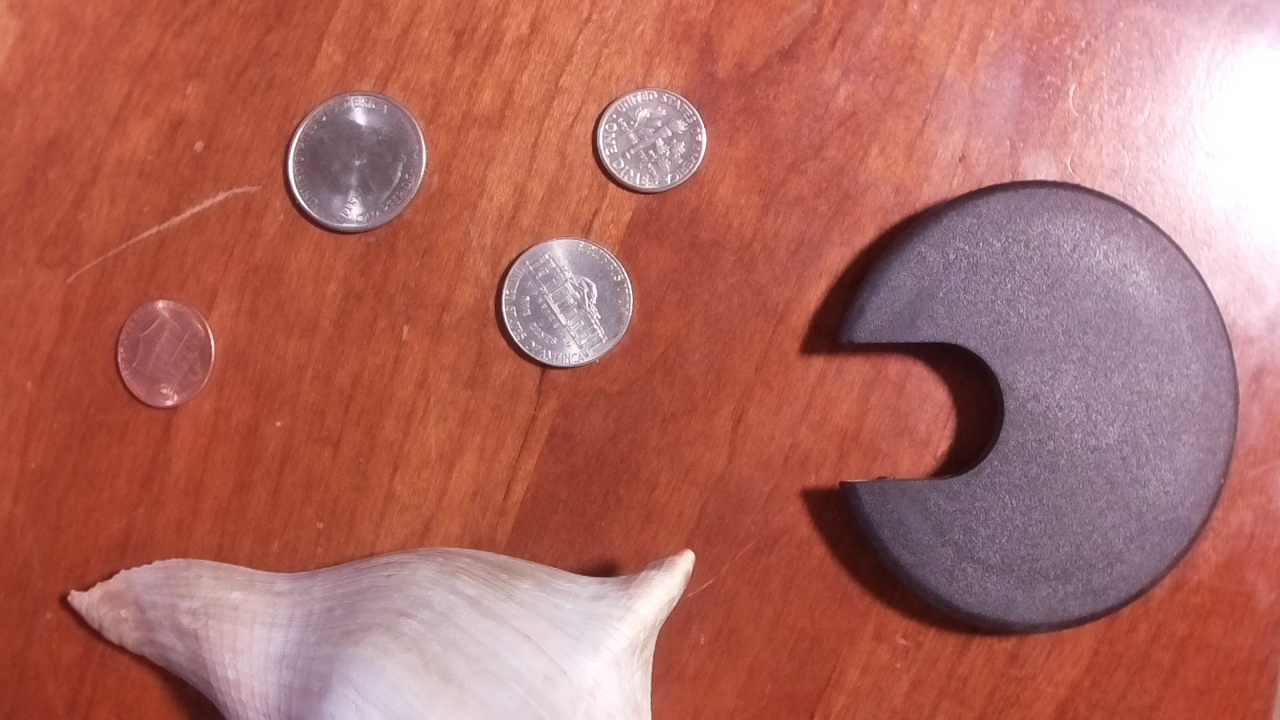dime: (591, 83, 709, 194)
nickel: (495, 237, 637, 371)
penny: (113, 297, 217, 410)
quarter: (283, 89, 431, 236)
